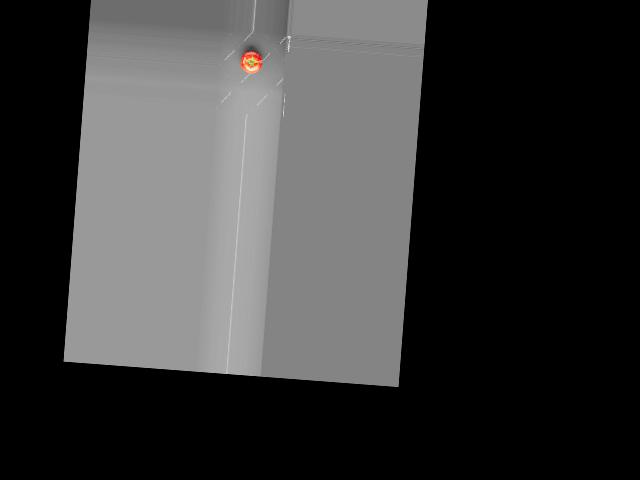tomato: (239, 50, 263, 75)
